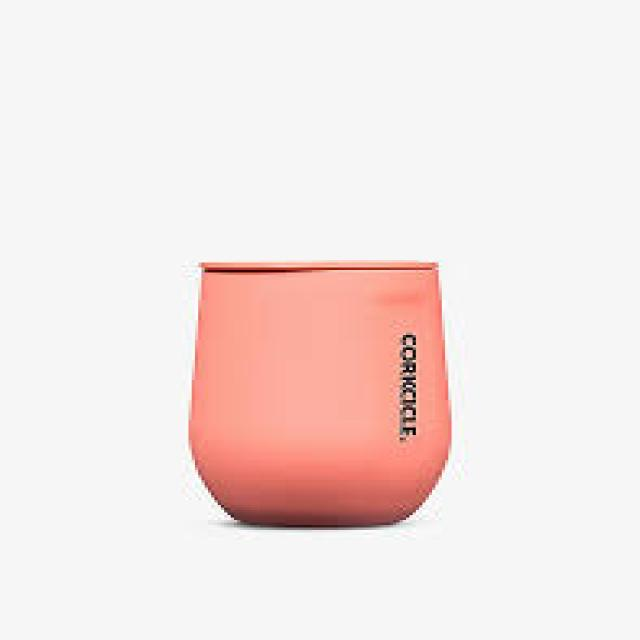bottle: (187, 260, 456, 530)
